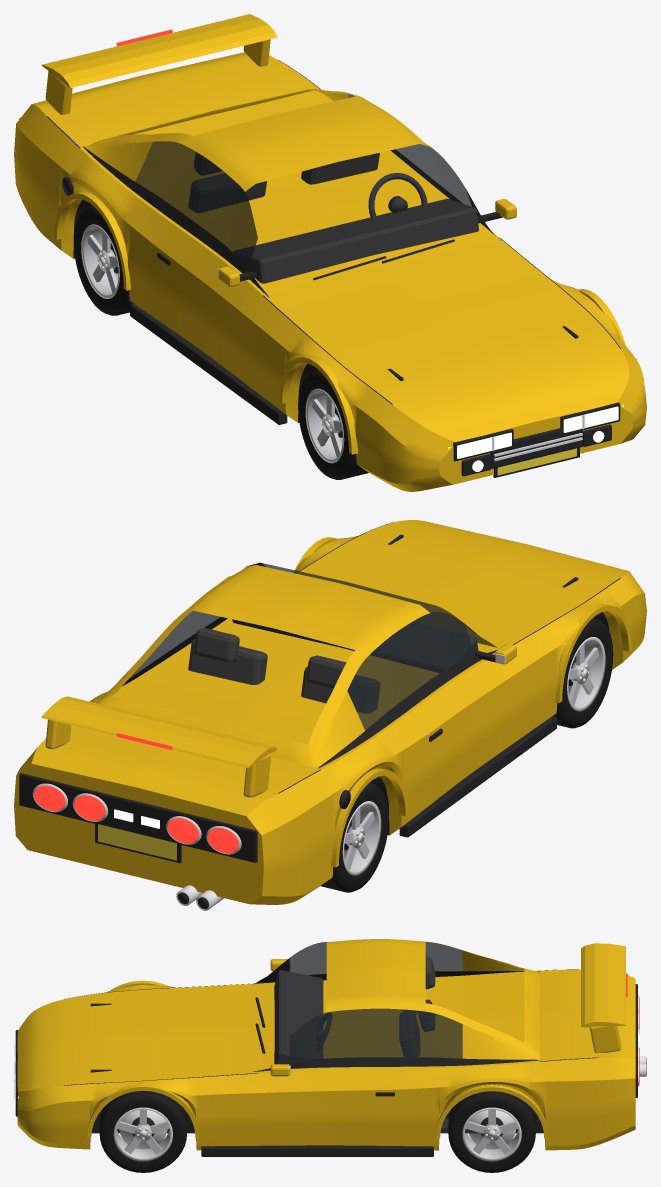
File: supremo.glb
3 renders of one model, top to bottom at view 1: azimuth 30°, elevation 25°; view 2: azimuth 150°, elevation 25°; view 3: azimuth 270°, elevation 25°, orthographic. The views are drawn at different scales.
Visible parts, largest first — view 1: hood, nose, tub, cabin_roof, door_R, cabin_glass, dash, deck_lid, quarter_R, fender_R, spoiler, tail (+15 smaller); view 2: tail, hood, cabin_roof, tub, door_R, cabin_glass, quarter_R, fender_R, spoiler, tail_garnish, wheel_FR, wheel_RR (+18 smaller); view 3: hood, door_L, tub, cabin_roof, cabin_glass, quarter_L, fender_L, nose, wheel_FL, wheel_RL, dash, tail (+9 smaller).
Boxes of the visible parts, x1,y1,x2,y2 form: hood: (264, 238, 620, 404); nose: (375, 349, 646, 491); tub: (80, 91, 499, 295); cabin_roof: (84, 89, 429, 191); door_R: (137, 210, 262, 384); cabin_glass: (135, 94, 471, 269); dash: (233, 198, 478, 283); deck_lid: (48, 60, 320, 148); quarter_R: (29, 117, 153, 306); fender_R: (245, 296, 392, 482); spoiler: (42, 14, 277, 87); tail: (14, 52, 277, 218); tail: (14, 738, 295, 904); hood: (297, 522, 619, 650); cabin_roof: (95, 564, 429, 768); tub: (94, 618, 495, 769); door_R: (394, 660, 517, 820); cabin_glass: (135, 563, 496, 730); quarter_R: (278, 724, 411, 904); fender_R: (507, 578, 638, 741); spoiler: (41, 696, 277, 768); tail_garnish: (19, 773, 257, 862); wheel_FR: (552, 618, 613, 728); wheel_RR: (320, 782, 388, 892); hood: (64, 983, 258, 1085); door_L: (258, 1068, 425, 1146); tub: (258, 970, 539, 1072); cabin_roof: (326, 939, 539, 1059); cabin_glass: (289, 942, 462, 1063); quarter_L: (425, 1058, 598, 1150); fender_L: (64, 1073, 258, 1150); nose: (17, 999, 63, 1148); wheel_FL: (99, 1091, 186, 1172); wheel_RL: (448, 1084, 535, 1172); dash: (274, 970, 323, 1064); tail: (598, 975, 635, 1144).
Size of the model in its own units: 1.89 by 1.26 by 4.63.
